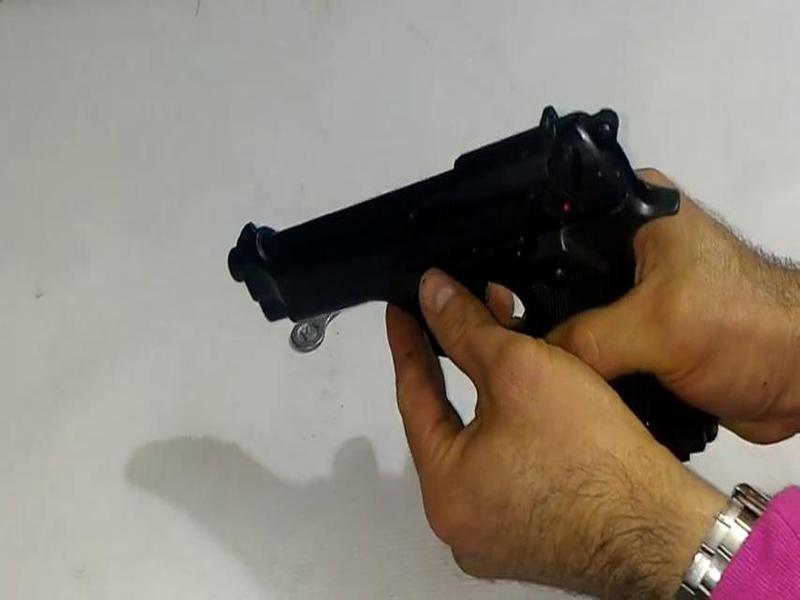Pistola: (227, 92, 731, 469)
